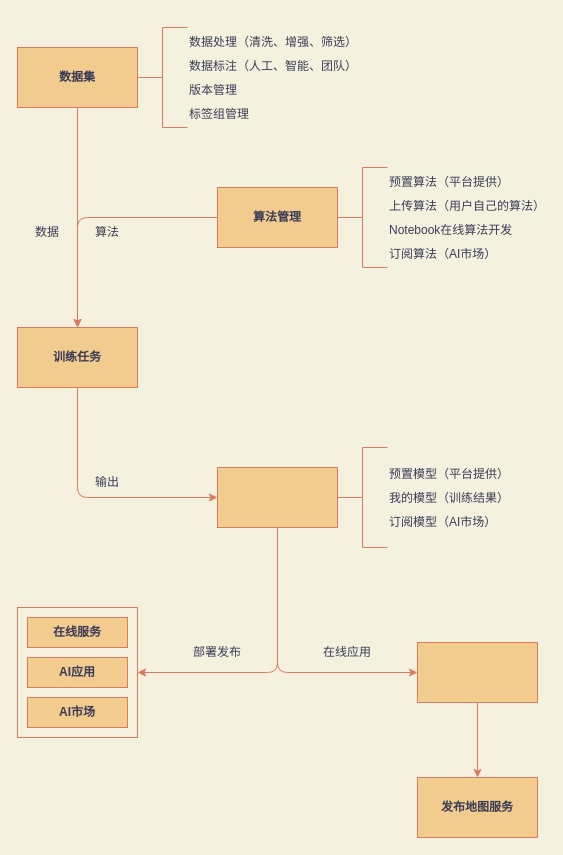
This 563x855 diagram has some shape labels left out. Each missing label, with the box of its shape:
模型管理: (216, 466, 338, 528)
遥感解译: (416, 642, 538, 702)
